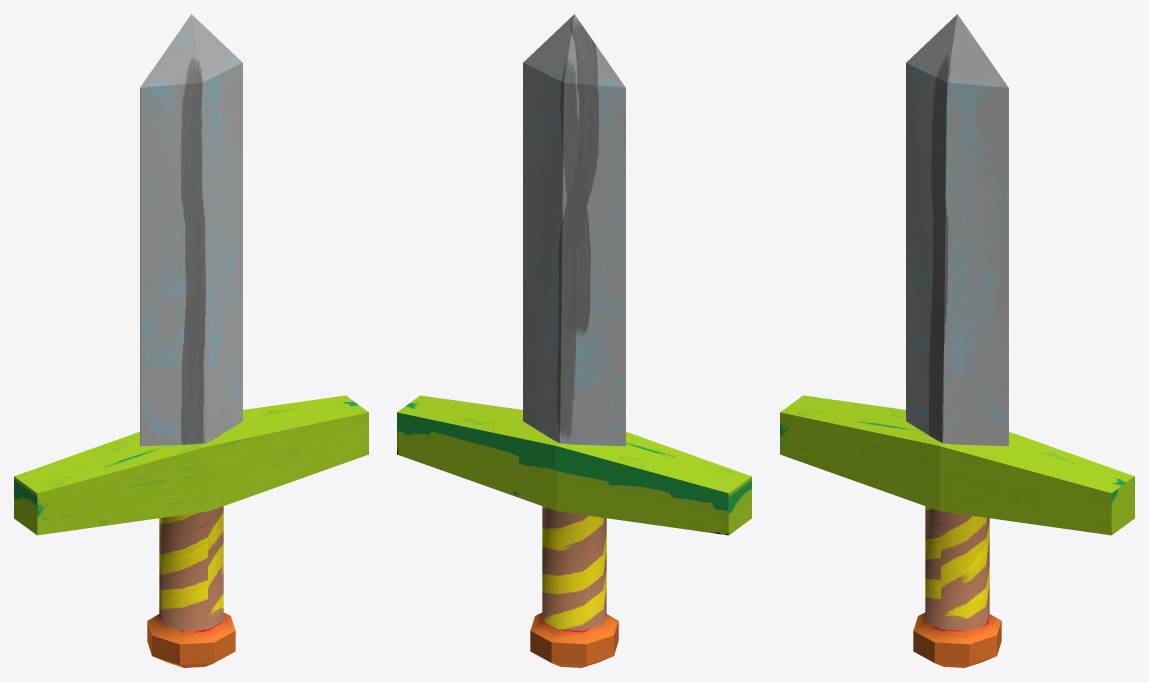
The model's file is Sword.obj.
3 views of the same model, side by side, from view 1: azimuth 30°, elevation 25°; view 2: azimuth 150°, elevation 25°; view 3: azimuth 330°, elevation 25° (orthographic).
Visible parts, largest first — view 1: Sword; view 2: Sword; view 3: Sword.
Boxes of the visible parts, x1,y1,x2,y2 form: Sword: (14, 14, 368, 667); Sword: (397, 14, 751, 667); Sword: (780, 14, 1134, 667).
Bounding box in the file's own units: 5.33 × 9.87 × 1.27.
1 material, 1 textured.
